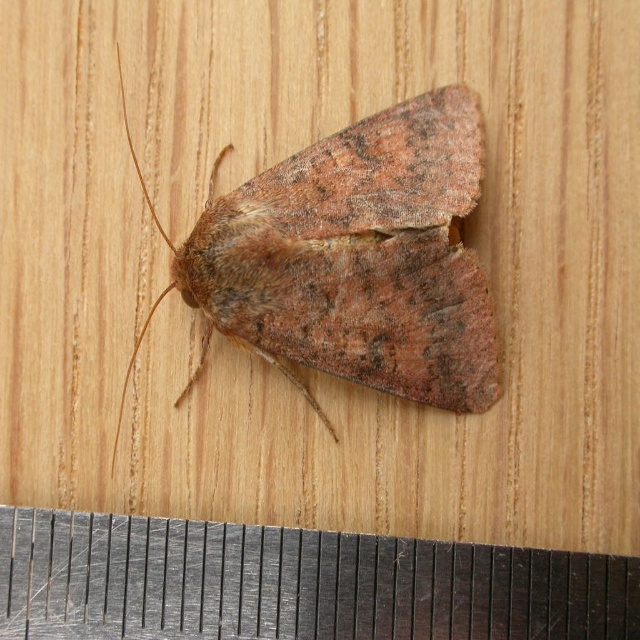Moths and butterflies: (109, 44, 504, 481)
